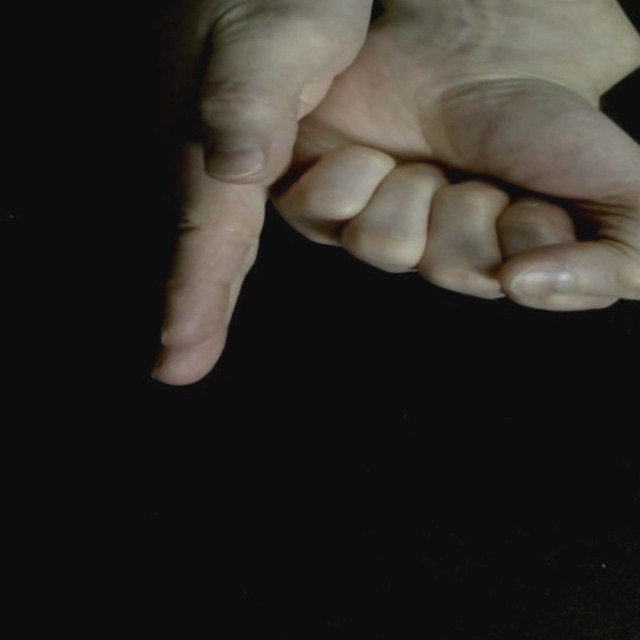Rock: (307, 0, 640, 41)
